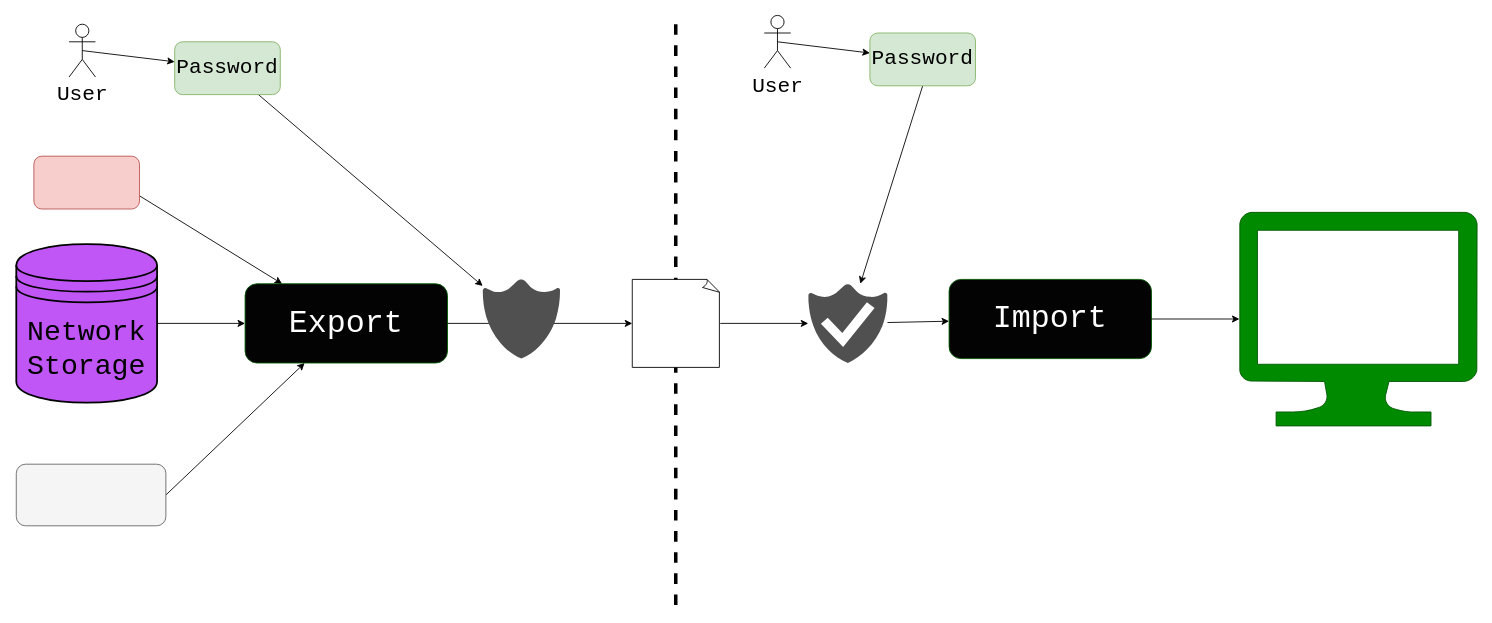
Image size: 1492x623. Some labels were removed from this diagram. The shapes that lost their labels are listed below. From the top down, each one's centre as x and y in pixels, then its label:
At pixel 86 182: "scanID".
At pixel 675 323: "File".
At pixel 1358 318: "GUI".
At pixel 90 494: "Register".
